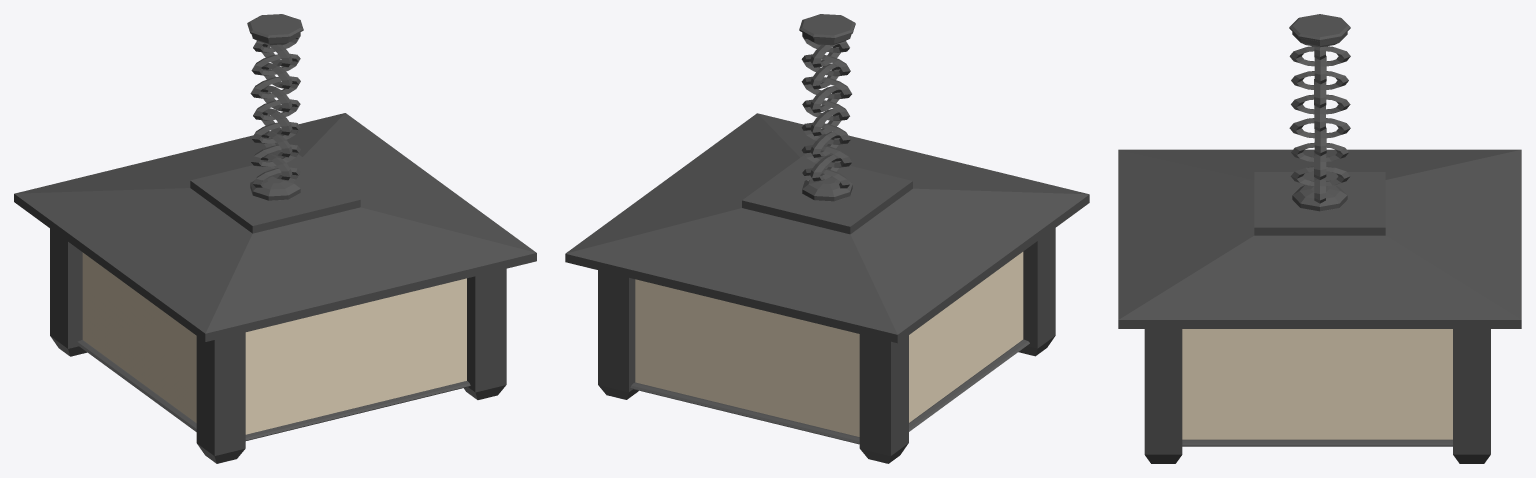
The model's file is sh-bs0-outdoor-lamp.glb.
The picture shows the model from 3 angles, left to right: view 1: azimuth 30°, elevation 25°; view 2: azimuth 150°, elevation 25°; view 3: azimuth 270°, elevation 25°; orthographic projection. The views are drawn at different scales.
Parts seen in each view (by area): view 1: Lamp_outdoor_01, Lamp_outdoor_Pane1; view 2: Lamp_outdoor_01, Lamp_outdoor_Pane1; view 3: Lamp_outdoor_01, Lamp_outdoor_Pane1.
Boxes of the visible parts, left/top/right/bottom form: Lamp_outdoor_01: left=14, top=14, right=536, bottom=463; Lamp_outdoor_Pane1: left=82, top=252, right=466, bottom=434; Lamp_outdoor_01: left=565, top=14, right=1089, bottom=463; Lamp_outdoor_Pane1: left=635, top=252, right=1023, bottom=436; Lamp_outdoor_01: left=1118, top=14, right=1521, bottom=463; Lamp_outdoor_Pane1: left=1182, top=329, right=1452, bottom=439.
Bounding box in the file's own units: 1 × 1 × 1.
